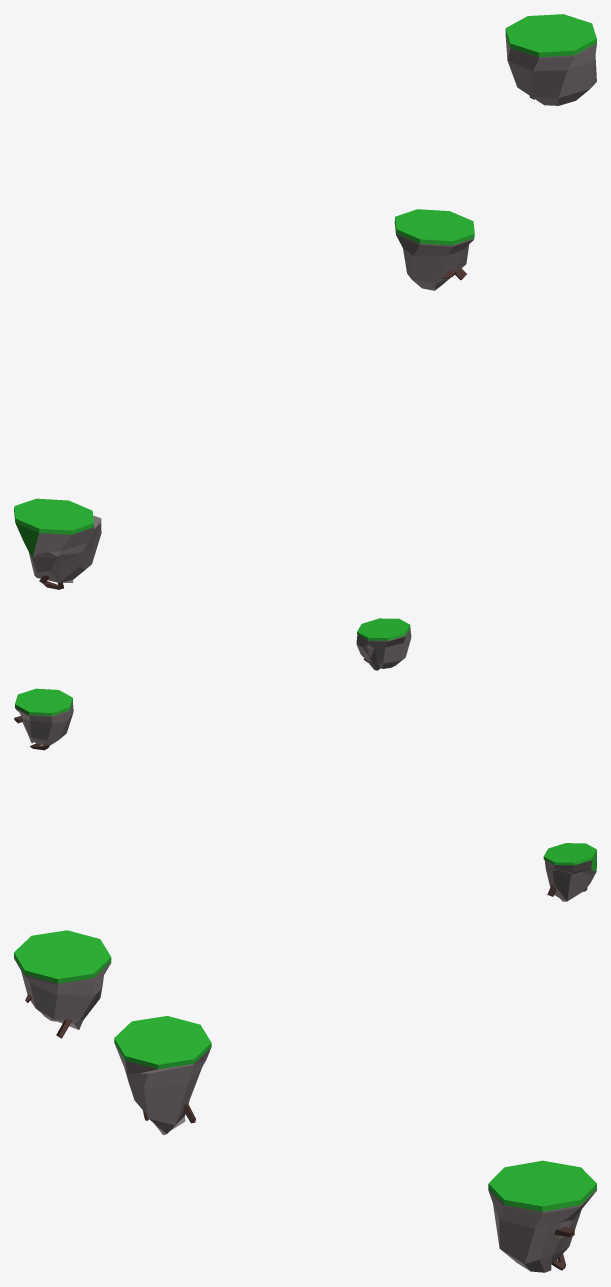
The model's file is rocks.glb.
3 views of the same model, one above another, from view 1: azimuth 30°, elevation 25°; view 2: azimuth 150°, elevation 25°; view 3: azimuth 270°, elevation 25° (orthographic). The views are drawn at different scales.
Parts seen in each view (by area): view 1: rock.002, rock, grass, rock.001, grass.001; view 2: rock.002, rock.001, rock, grass, grass.001; view 3: rock.002, rock, grass, grass.001, rock.001.
Part boxes in pixels (x1,y1,x2,y2): rock.002: (14, 498, 101, 582); rock: (505, 34, 596, 105); grass: (505, 14, 596, 57); rock.001: (394, 221, 474, 290); grass.001: (395, 209, 474, 245); rock.002: (543, 843, 596, 901); rock.001: (356, 628, 411, 670); rock: (15, 701, 73, 745); grass: (15, 688, 72, 715); grass.001: (357, 618, 410, 640); rock.002: (114, 1016, 211, 1135); rock: (488, 1189, 596, 1272); grass: (488, 1160, 596, 1211); grass.001: (14, 930, 111, 983); rock.001: (14, 957, 111, 1029).
Bounding box in the file's own units: 18.08 × 7.37 × 10.74.
